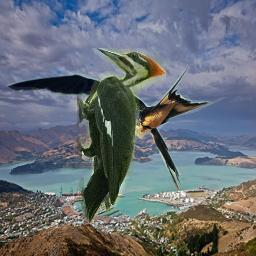Swallow: (3, 63, 247, 190)
Woodpecker: (77, 48, 166, 223)
